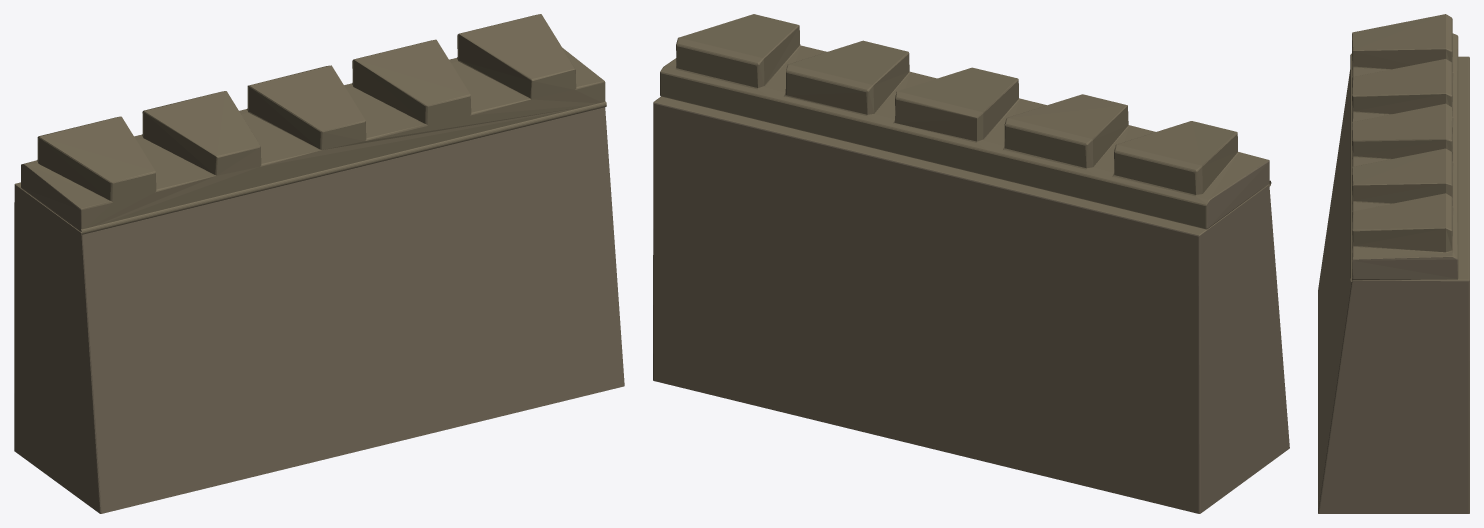
File: fort-wall-lod1.glb
The picture shows the model from 3 angles, left to right: view 1: azimuth 30°, elevation 25°; view 2: azimuth 150°, elevation 25°; view 3: azimuth 270°, elevation 25°; orthographic projection. The views are drawn at different scales.
Bounding box in the file's own units: 14.56 × 8.53 × 4.17.
